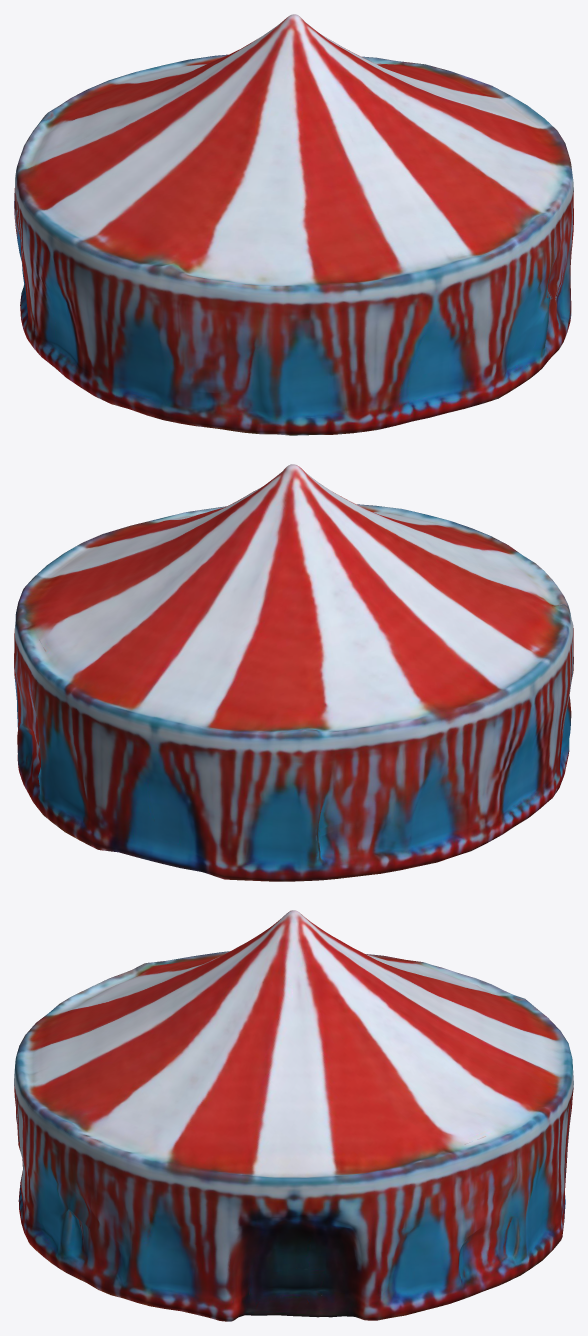
The model's file is 3b7ada4d65a4_5e45c2c2be0b_coral_reef_circus_t.glb.
The picture shows the model from 3 angles, top to bottom: view 1: azimuth 30°, elevation 25°; view 2: azimuth 150°, elevation 25°; view 3: azimuth 270°, elevation 25°; orthographic projection.
Parts seen in each view (by area): view 1: mesh; view 2: mesh; view 3: mesh.
Boxes of the visible parts, x1=… form: mesh: x1=14, y1=14, x2=573, y2=435; mesh: x1=14, y1=464, x2=573, y2=881; mesh: x1=14, y1=910, x2=573, y2=1321.
Size of the model in its own units: 0.988 by 0.5975 by 0.9996.
1 material, 1 textured.
